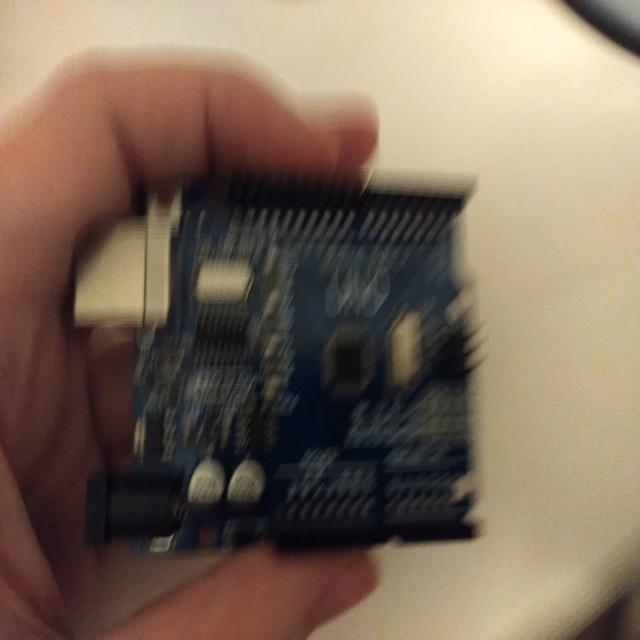arduino: (63, 174, 487, 554)
